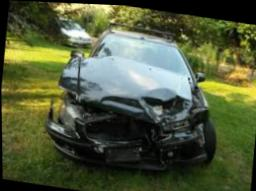Bonnet: (59, 51, 202, 121)
Bumper: (45, 102, 209, 167)
Light: (167, 111, 199, 130), (57, 103, 82, 124)
